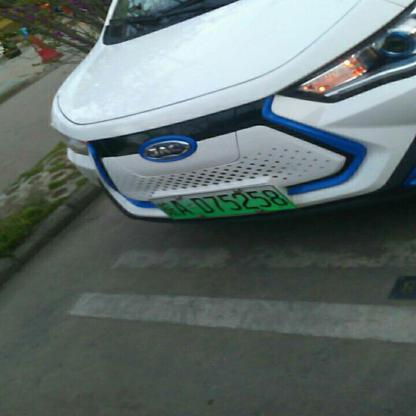lp: (150, 184, 298, 219)
